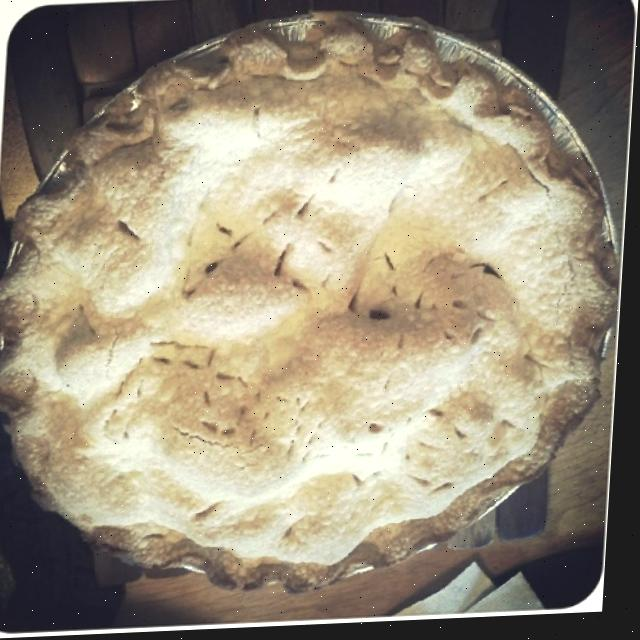炸货点心: (2, 9, 631, 607)
蛋糕甜品: (2, 9, 631, 607)
